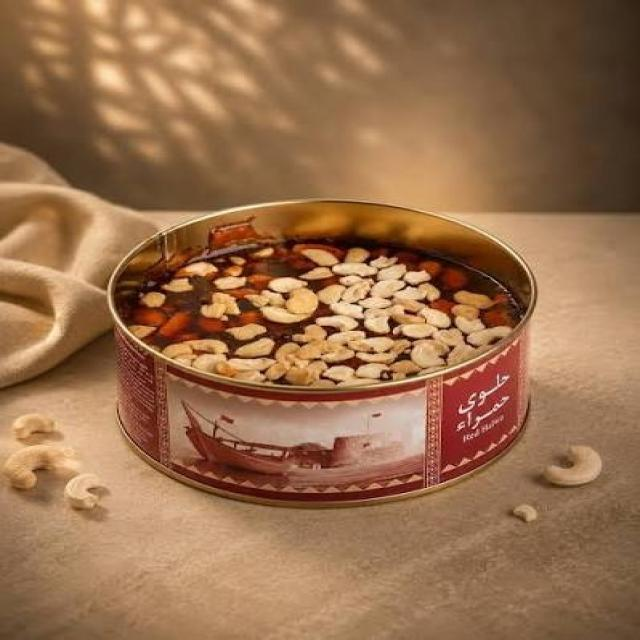Halwa: (112, 218, 535, 397)
